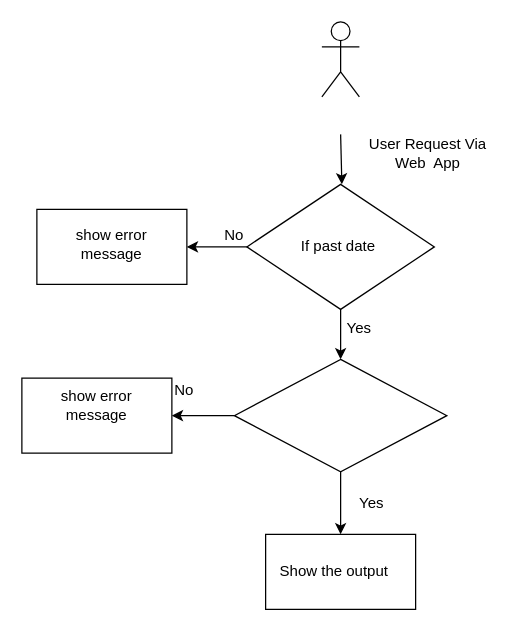
Image size: 519x631. Some labels were removed from this diagram. The box of each missing label's shape, as (x1, y1, x2, y2) in pixels:
Actor: (321, 21, 359, 97)
If data is available for chosen date: (233, 358, 447, 472)
